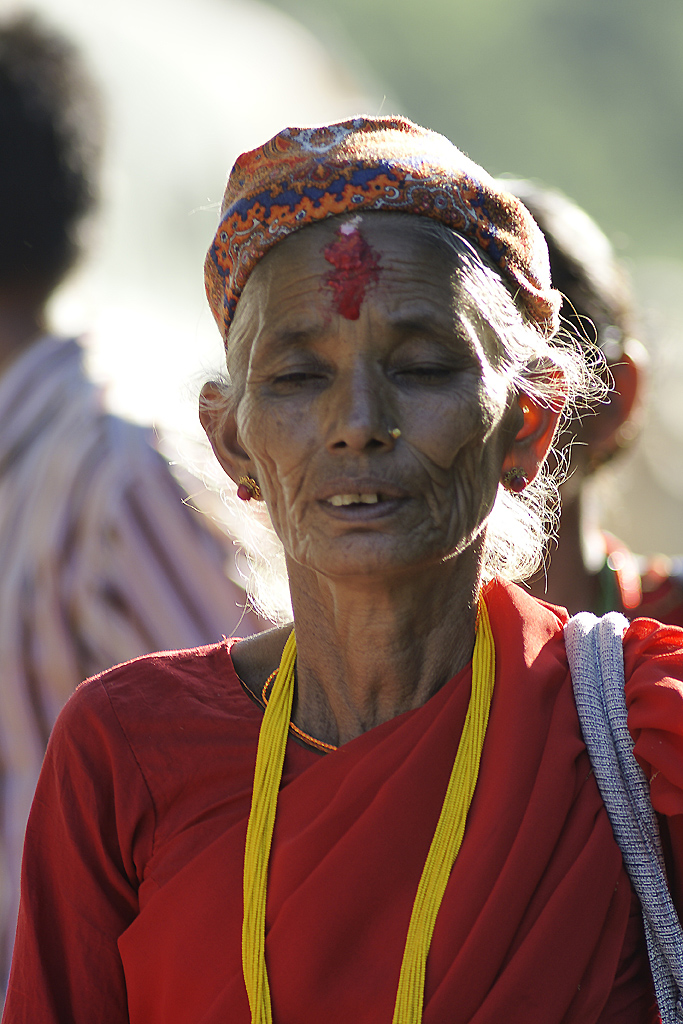human: (1, 104, 683, 1024)
